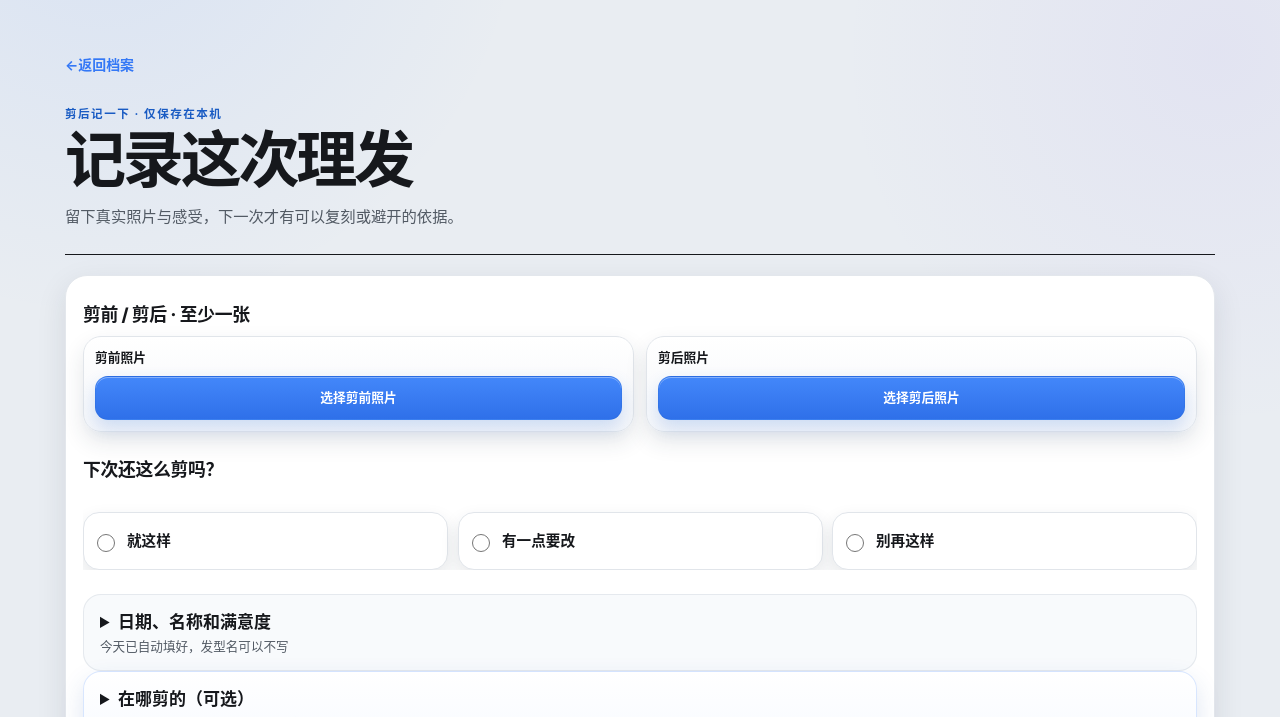
Scenario: archive routes and forms › puts photos and the next-cut decision before metadata, then separates optional details
Expected: the text "剪前 / 剪后 · 至少一张" is shown, [83,304,250,325]
Expected: the text "下次还这么剪吗？" is shown, [83,459,223,480]
Step 1. Click the radio button labelled "有一点要改" → (481, 542), box [472,533,490,551]
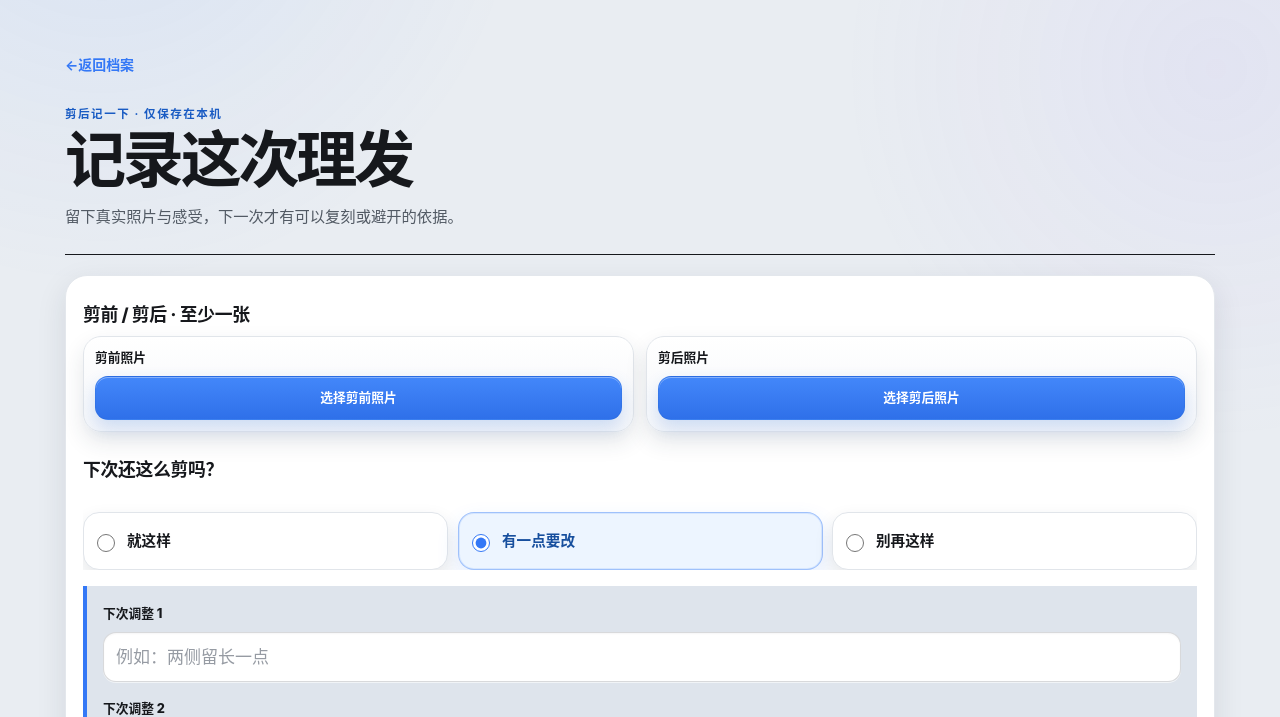
Expected: the field labelled "下次调整 1" is shown, [103,632,1181,682]
